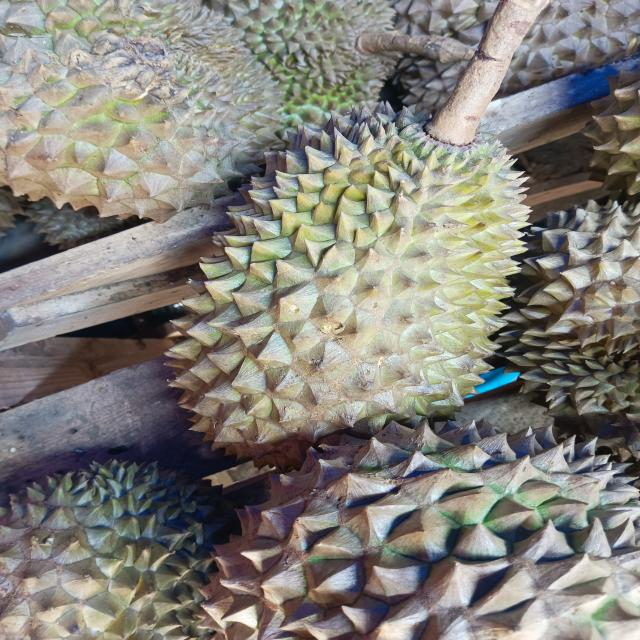mature: (161, 100, 524, 468), (204, 422, 640, 640), (0, 0, 281, 222), (0, 459, 226, 640), (220, 0, 473, 128), (498, 201, 640, 424)
